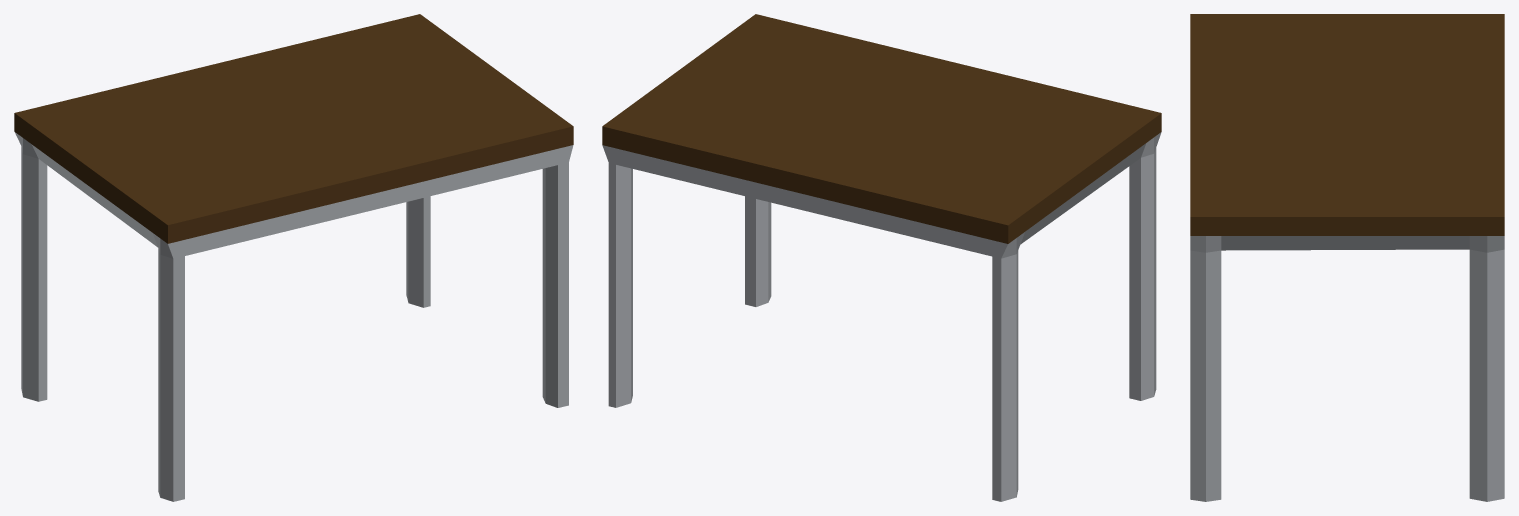
File: table.fbx
3 renders of one model, left to right at view 1: azimuth 30°, elevation 25°; view 2: azimuth 150°, elevation 25°; view 3: azimuth 270°, elevation 25°, orthographic. The views are drawn at different scales.
Parts seen in each view (by area): view 1: Cube; view 2: Cube; view 3: Cube.
Boxes of the visible parts, x1,y1,x2,y2 form: Cube: (14, 14, 573, 501); Cube: (602, 14, 1161, 501); Cube: (1190, 14, 1504, 501).
Size of the model in its own units: 267 by 175 by 175.
